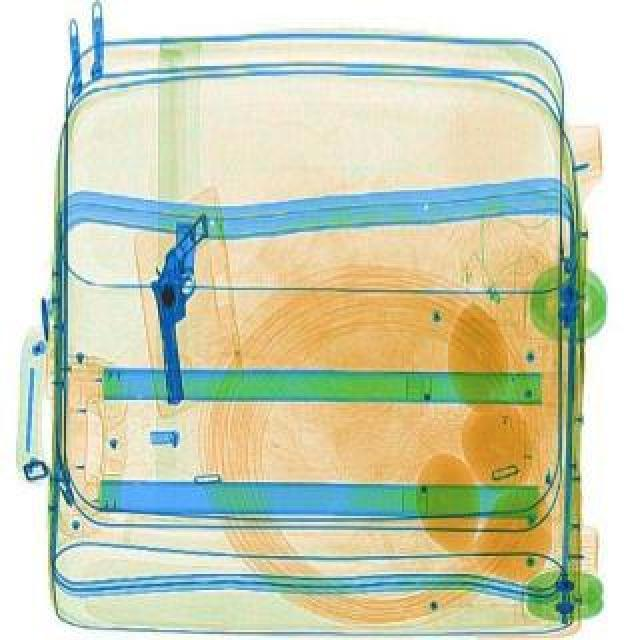gun: (142, 212, 234, 406)
